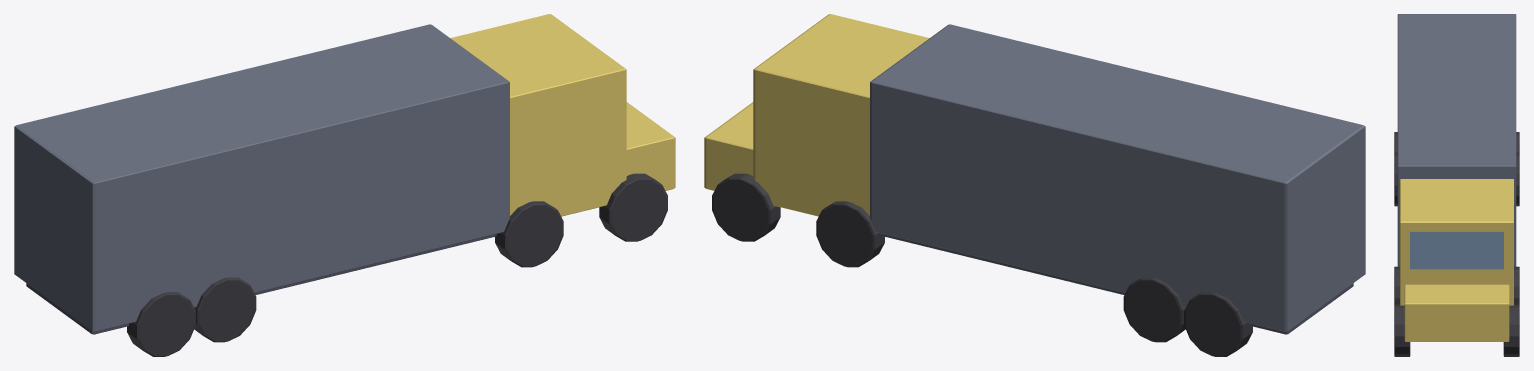
File: tir.glb
3 renders of one model, left to right at view 1: azimuth 30°, elevation 25°; view 2: azimuth 150°, elevation 25°; view 3: azimuth 270°, elevation 25°, orthographic. The views are drawn at different scales.
Visible parts, largest first — view 1: Tir; view 2: Tir; view 3: Tir.
Boxes of the visible parts, box(x1,y1,x2,y2) form: Tir: box(14, 14, 675, 356); Tir: box(704, 14, 1365, 356); Tir: box(1394, 14, 1519, 356).
Bounding box in the file's own units: 10.7 × 3.29 × 2.64.
